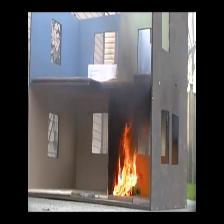fire: (114, 129, 139, 194)
smoke: (115, 69, 148, 124)
